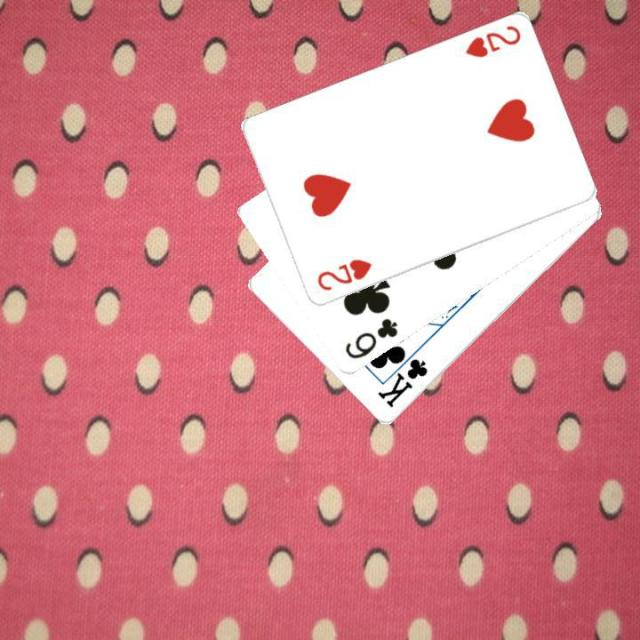2H: (460, 21, 522, 60), (313, 255, 373, 293)
6C: (340, 314, 400, 362)
KC: (374, 343, 429, 410)
